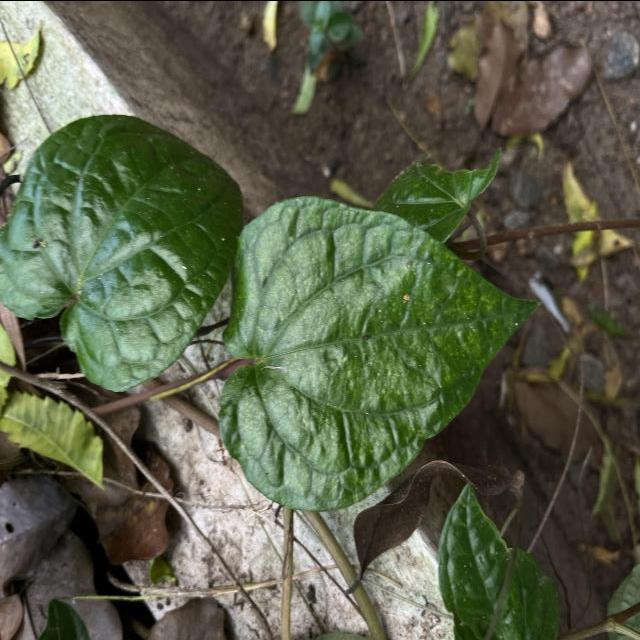Piper betle: (211, 190, 546, 514)
